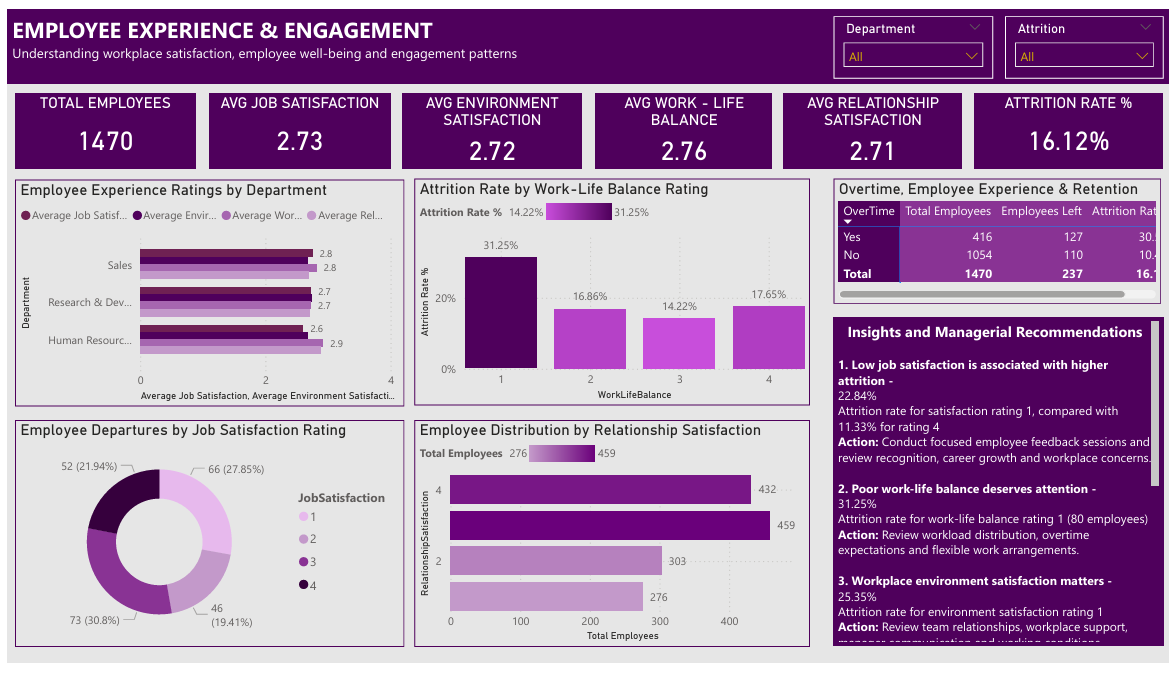

Layout of this report page (visuals, bound fields, positions):
{"tool":"powerbi","page":{"name":"05 - Employee Experience & Engagement","canvas":[1280,720],"ordinal":4},"visuals":[{"type":"card","title":"TOTAL EMPLOYEES","fields":{"Values":["HR_Analytics_Cleaned.Total Employees"]},"box":[8.5,92.3,198.5,82.3],"z":0},{"type":"card","title":"AVG WORK - LIFE BALANCE","fields":{"Values":["HR_Analytics_Cleaned.Average Work-Life Balance"]},"box":[647.7,92.3,195.4,82.3],"z":1000},{"type":"card","title":"AVG JOB SATISFACTION","fields":{"Values":["HR_Analytics_Cleaned.Average Job Satisfaction"]},"box":[221.5,92.3,200,82.3],"z":2000},{"type":"card","title":"AVG ENVIRONMENT SATISFACTION","fields":{"Values":["HR_Analytics_Cleaned.Average Environment Satisfaction"]},"box":[435.4,92.3,197.7,82.3],"z":3000},{"type":"card","title":"AVG RELATIONSHIP SATISFACTION","fields":{"Values":["HR_Analytics_Cleaned.Average Relationship Satisfaction"]},"box":[855.4,92.3,196.2,82.3],"z":4000},{"type":"card","title":"ATTRITION RATE %","fields":{"Values":["HR_Analytics_Cleaned.Attrition Rate %"]},"box":[1065,92,208,83],"z":5000},{"type":"textbox","box":[0,0,1280,82],"z":6000},{"type":"donutChart","title":"Employee Departures by Job Satisfaction Rating","fields":{"Category":["HR_Analytics_Cleaned.JobSatisfaction"],"Y":["HR_Analytics_Cleaned.Employees Left"]},"box":[8.3,451.7,428.3,250],"z":7000},{"type":"slicer","fields":{"Values":["HR_Analytics_Cleaned.Attrition"]},"box":[1098.6,7.1,175.7,68.6],"z":8000},{"type":"slicer","fields":{"Values":["HR_Analytics_Cleaned.Department"]},"box":[910,7.1,175.7,68.6],"z":9000},{"type":"clusteredColumnChart","title":"Attrition Rate by Work-Life Balance Rating","fields":{"Category":["HR_Analytics_Cleaned.WorkLifeBalance"],"Y":["HR_Analytics_Cleaned.Attrition Rate %"]},"box":[448,186,436,250],"z":10000},{"type":"textbox","box":[909.8,338.8,364.2,362.7],"z":11000},{"type":"clusteredBarChart","title":"Employee Distribution by Relationship Satisfaction","fields":{"Category":["HR_Analytics_Cleaned.RelationshipSatisfaction"],"Y":["HR_Analytics_Cleaned.Total Employees"]},"box":[448,452,436,250],"z":12000},{"type":"pivotTable","title":"Overtime, Employee Experience & Retention","fields":{"Values":["HR_Analytics_Cleaned.Total Employees","HR_Analytics_Cleaned.Employees Left","HR_Analytics_Cleaned.Attrition Rate %"],"Rows":["HR_Analytics_Cleaned.OverTime"]},"box":[909.8,186.1,361.1,138.4],"z":13000},{"type":"clusteredBarChart","title":"Employee Experience Ratings by Department","fields":{"Category":["HR_Analytics_Cleaned.Department"],"Y":["HR_Analytics_Cleaned.Average Job Satisfaction","HR_Analytics_Cleaned.Average Environment Satisfaction","HR_Analytics_Cleaned.Average Work-Life Balance","HR_Analytics_Cleaned.Average Relationship Satisfaction"]},"box":[8.3,186.7,428.3,250],"z":14000}]}

Visuals, with their boxes in screenshot pixels (x1, y1, x2, y2), scaled from the page's 1280x720 canvas onto the 1174x676 screenshot:
"TOTAL EMPLOYEES" card: <box>8,87,190,164</box>
"AVG WORK - LIFE BALANCE" card: <box>594,87,773,164</box>
"AVG JOB SATISFACTION" card: <box>203,87,387,164</box>
"AVG ENVIRONMENT SATISFACTION" card: <box>399,87,581,164</box>
"AVG RELATIONSHIP SATISFACTION" card: <box>785,87,965,164</box>
"ATTRITION RATE %" card: <box>977,86,1168,164</box>
textbox: <box>0,0,1173,77</box>
"Employee Departures by Job Satisfaction Rating" donutChart: <box>8,424,400,659</box>
slicer - HR_Analytics_Cleaned.Attrition: <box>1008,7,1169,71</box>
slicer - HR_Analytics_Cleaned.Department: <box>835,7,996,71</box>
"Attrition Rate by Work-Life Balance Rating" clusteredColumnChart: <box>411,175,811,409</box>
textbox: <box>834,318,1168,659</box>
"Employee Distribution by Relationship Satisfaction" clusteredBarChart: <box>411,424,811,659</box>
"Overtime, Employee Experience & Retention" pivotTable: <box>834,175,1166,305</box>
"Employee Experience Ratings by Department" clusteredBarChart: <box>8,175,400,410</box>
